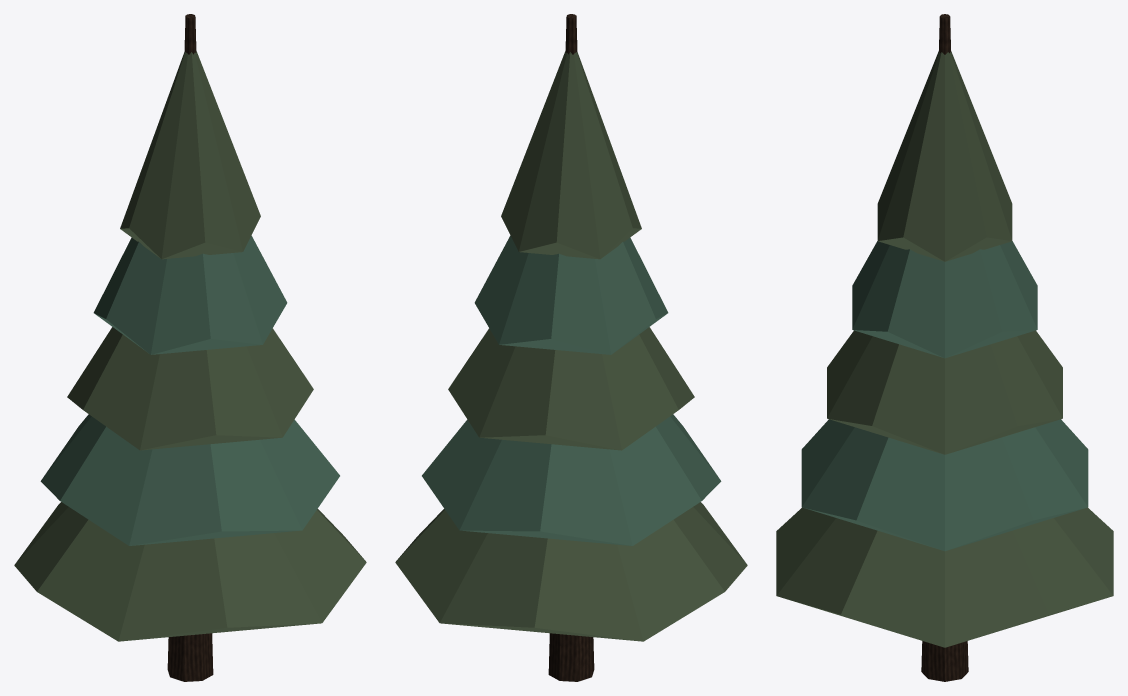
The model's file is Tree_Pine_02.glb.
3 views of the same model, side by side, from view 1: azimuth 30°, elevation 25°; view 2: azimuth 150°, elevation 25°; view 3: azimuth 270°, elevation 25° (orthographic).
Visible parts, largest first — view 1: Tree_Pine_02; view 2: Tree_Pine_02; view 3: Tree_Pine_02.
Part boxes in pixels (box(x1,y1,x2,y2)): Tree_Pine_02: box(14, 14, 366, 681); Tree_Pine_02: box(395, 14, 747, 681); Tree_Pine_02: box(776, 14, 1113, 681).
Bounding box in the file's own units: 2.4 × 4.9 × 2.28.
Materials: 3 (1 with a texture image).
